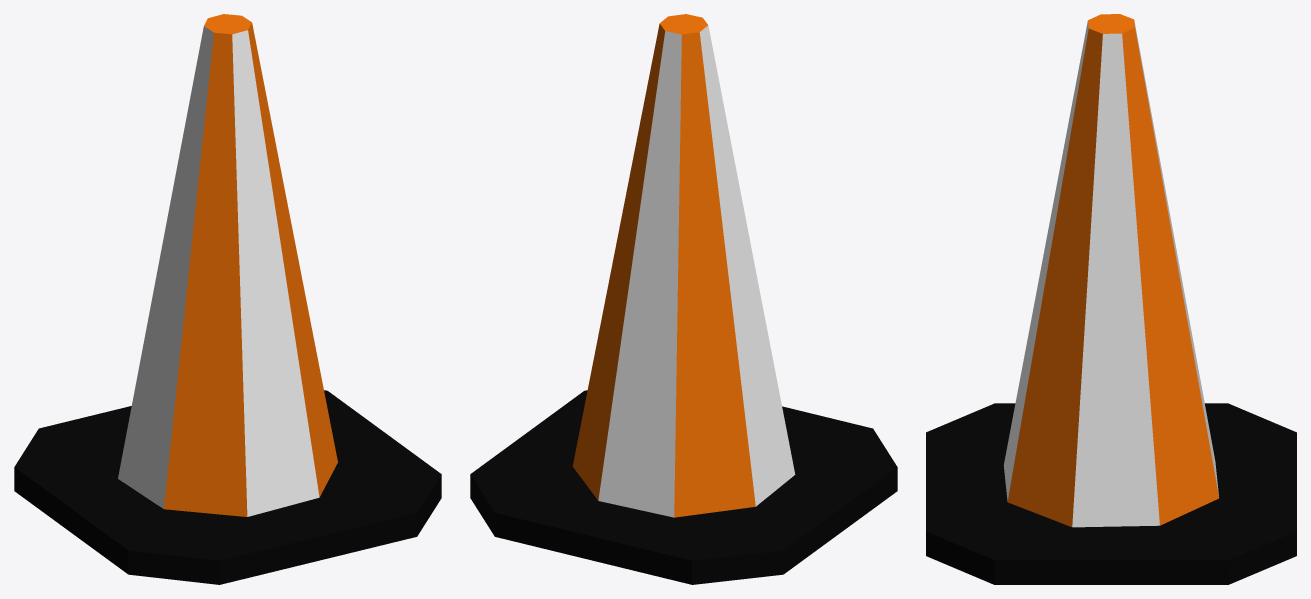
Rendered from Prop_RoadCone_02.fbx.
3 renders of one model, left to right at view 1: azimuth 30°, elevation 25°; view 2: azimuth 150°, elevation 25°; view 3: azimuth 270°, elevation 25°, orthographic. The views are drawn at different scales.
Visible parts, largest first — view 1: Prop_RoadCone_02; view 2: Prop_RoadCone_02; view 3: Prop_RoadCone_02.
Part boxes in pixels (x1,y1,x2,y2): Prop_RoadCone_02: [14, 14, 441, 584]; Prop_RoadCone_02: [470, 14, 897, 584]; Prop_RoadCone_02: [926, 14, 1296, 584].
Bounding box in the file's own units: 51.39 × 73.78 × 51.39.
